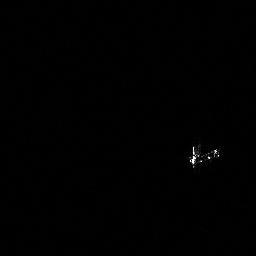ship: (185, 143, 223, 170)
